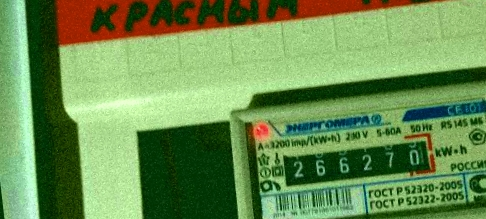0: (406, 146, 419, 167)
2: (289, 157, 306, 179), (359, 151, 373, 172)
6: (312, 156, 327, 178), (336, 154, 350, 174)
7: (382, 148, 396, 169)
screen: (268, 124, 446, 199)
